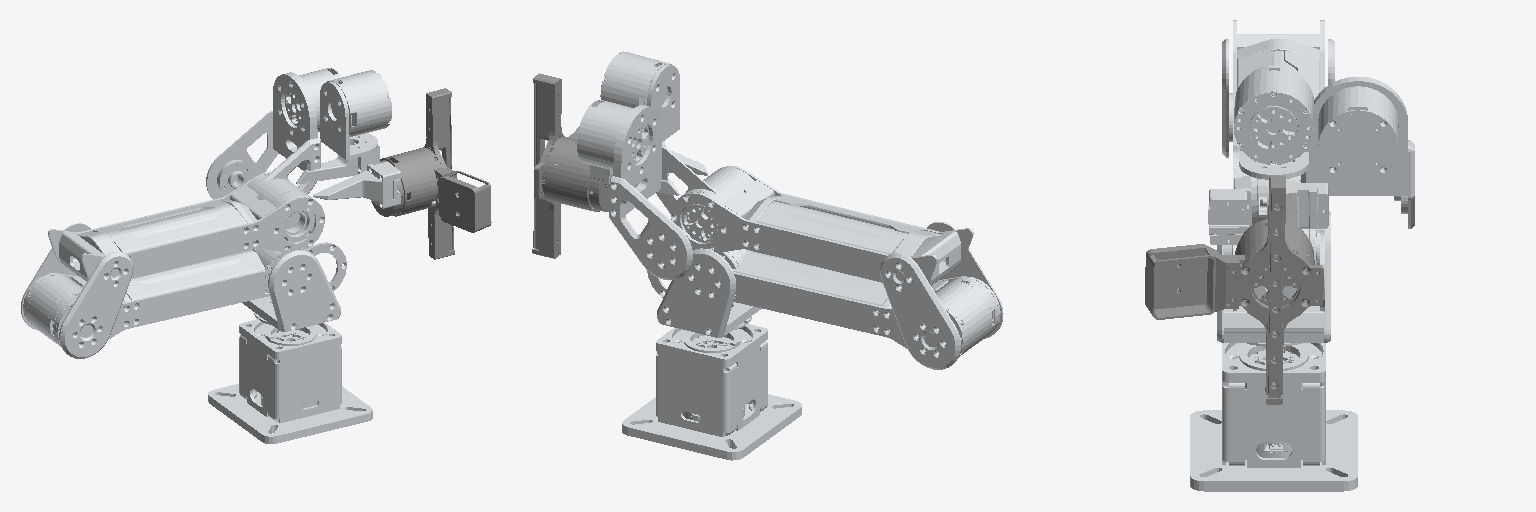
The robot description file, URDF, robot "NEW_ROBOT_ID_00_description":
<?xml version="1.0" encoding="utf-8"?>
<robot name="NEW_ROBOT_ID_00_description">
  
  <material name="light_grey">
    <color rgba="0.89804 0.91765 0.92941 1" />
  </material>
  <material name="dark_grey">
    <color rgba="0.64706 0.64706 0.64706 1" />
  </material>

  <link name="base_link">
    <inertial>
      <origin xyz="-0.007131 0.001945 0.043144" rpy="0 0 0" />
      <mass value="0.916" />
      <inertia ixx="0.002185445" ixy="-0.000227209" ixz="-0.000723781" iyy="0.003441872" iyz="0.000200330" izz="0.002680529" />
    </inertial>
    <visual>
      <origin xyz="0 0 0" rpy="0 0 0" />
      <geometry>
        <mesh filename="package://zekeep_bringup/description/meshes/base_link.STL" />
      </geometry>
      <material name="light_grey" />
    </visual>
    <collision>
      <origin xyz="0 0 0" rpy="0 0 0" />
      <geometry>
        <mesh filename="package://zekeep_bringup/description/meshes/base_link.STL" />
      </geometry>
    </collision>
  </link>

  <link name="link1">
    <inertial>
      <origin xyz="-0.00721199856 0.000698341 0.045955638" rpy="0 0 0" />
      <mass value="0.735" />
      <inertia ixx="0.000175065" ixy="0.000000212" ixz="0.000015081" iyy="0.000196979" iyz="-0.000000247" izz="0.000192343" />
    </inertial>
    <visual>
      <origin xyz="0 0 0" rpy="0 0 0" />
      <geometry>
        <mesh filename="package://zekeep_bringup/description/meshes/link1.STL" />
      </geometry>
      <material name="light_grey" />
    </visual>
    <collision>
      <origin xyz="0 0 0" rpy="0 0 0" />
      <geometry>
        <mesh filename="package://zekeep_bringup/description/meshes/link1.STL" />
      </geometry>
    </collision>
  </link>

  <link name="link2">
    <inertial>
      <origin xyz="0.197269 -0.000018 -0.030544" rpy="0 0 0" />
      <mass value="0.768" />
      <inertia ixx="0.000476697" ixy="-0.000002947" ixz="0.000055442" iyy="0.005877765" iyz="0.000000856" izz="0.005694930" />
    </inertial>
    <visual>
      <origin xyz="0 0 0" rpy="0 0 0" />
      <geometry>
        <mesh filename="package://zekeep_bringup/description/meshes/link2.STL" />
      </geometry>
      <material name="light_grey" />
    </visual>
    <collision>
      <origin xyz="0 0 0" rpy="0 0 0" />
      <geometry>
        <mesh filename="package://zekeep_bringup/description/meshes/link2.STL" />
      </geometry>
    </collision>
  </link>

  <link name="link3">
    <inertial>
      <origin xyz="0.146501 0.048525 0.030587" rpy="0 0 0" />
      <mass value="0.859" />
      <inertia ixx="0.000915548" ixy="0.000691174" ixz="-0.000116795" iyy="0.008789562" iyz="-0.000011161" izz="0.008645906" />
    </inertial>
    <visual>
      <origin xyz="0 0 0" rpy="0 0 0" />
      <geometry>
        <mesh filename="package://zekeep_bringup/description/meshes/link3.STL" />
      </geometry>
      <material name="light_grey" />
    </visual>
    <collision>
      <origin xyz="0 0 0" rpy="0 0 0" />
      <geometry>
        <mesh filename="package://zekeep_bringup/description/meshes/link3.STL" />
      </geometry>
    </collision>
  </link>

  <link name="link4">
    <inertial>
      <origin xyz="0.056244 0.051257 0.031059" rpy="0 0 0" />
      <mass value="0.506" />
      <inertia ixx="0.000635492" ixy="0.000343343" ixz="-0.000002832" iyy="0.000789294" iyz="-0.000002020" izz="0.000897884" />
    </inertial>
    <visual>
      <origin xyz="0 0 0" rpy="0 0 0" />
      <geometry>
        <mesh filename="package://zekeep_bringup/description/meshes/link4.STL" />
      </geometry>
      <material name="light_grey" />
    </visual>
    <collision>
      <origin xyz="0 0 0" rpy="0 0 0" />
      <geometry>
        <mesh filename="package://zekeep_bringup/description/meshes/link4.STL" />
      </geometry>
    </collision>
  </link>

  <link name="link5">
    <inertial>
      <origin xyz="-0.003856035728 -0.000000000221 -0.047059240881" rpy="0 0 0" />
      <mass value="0.391" />
      <inertia ixx="0.000225324549" ixy="0.000000000994" ixz="0.000053807136" iyy="0.000285103036" iyz="0.000000036977" izz="0.000227654172" />
    </inertial>
    <visual>
      <origin xyz="0 0 0" rpy="0 0 0" />
      <geometry>
        <mesh filename="package://zekeep_bringup/description/meshes/link5.STL" />
      </geometry>
      <material name="light_grey" />
    </visual>
    <collision>
      <origin xyz="0 0 0" rpy="0 0 0" />
      <geometry>
        <mesh filename="package://zekeep_bringup/description/meshes/link5.STL" />
      </geometry>
    </collision>
  </link>

  <link name="link6">
    <inertial>
      <origin xyz="0.000070 0.010969 0.046197" rpy="0 0 0" />
      <mass value="0.643" />
      <inertia ixx="0.000609430" ixy="0.000002066" ixz="0.000000563" iyy="0.000607333" iyz="0.000071787" izz="0.000843408" />
    </inertial>
    <visual>
      <!-- 只修正 J6 外壳方向，不改变夹指和 TCP 位姿 -->
      <origin xyz="0 0 0" rpy="0 0 1.5707963267948966" />
      <geometry>
        <mesh filename="package://zekeep_bringup/description/meshes/link6.STL" />
      </geometry>
      <material name="dark_grey" />
    </visual>
    <collision>
      <origin xyz="0 0 0" rpy="0 0 1.5707963267948966" />
      <geometry>
        <mesh filename="package://zekeep_bringup/description/meshes/link6.STL" />
      </geometry>
    </collision>
  </link>

  <joint name="joint1" type="revolute">
    <origin xyz="0 0 0.0725" rpy="0 0 3.1416" />
    <parent link="base_link" />
    <child link="link1" />
    <axis xyz="0 0 -1" />
    <limit lower="-2.58" upper="2.58" effort="27" velocity="8" />
  </joint>
  
  <joint name="joint2" type="revolute">
    <origin xyz="-0.016376 -0.031625 0.064309" rpy="1.5708 0 0" />
    <parent link="link1" />
    <child link="link2" />
    <axis xyz="0 0 1" />
    <limit lower="0" upper="3.7" effort="27" velocity="8" />
  </joint>
  
  <joint name="joint3" type="revolute">
    <origin xyz="0.26 0 0" rpy="3.1416 0 3.1416" />
    <parent link="link2" />
    <child link="link3" />
    <axis xyz="0 0 1" />
    <limit lower="-0.01" upper="3.7" effort="27" velocity="8" />
  </joint>
  
  <joint name="joint4" type="revolute">
    <origin xyz="0.236 0.053693 0.00075" rpy="0 0 0" />
    <parent link="link3" />
    <child link="link4" />
    <axis xyz="0 0 1" />
    <limit lower="-1.57" upper="1.57" effort="12.5" velocity="30" />
  </joint>
  
  <joint name="joint5" type="revolute">
    <origin xyz="0.0748682393924207 0.0470000537620406 0.0308749462379592" rpy="1.57079632679489 0 3.14159265358979" />
    <parent link="link4" />
    <child link="link5" />
    <axis xyz="0 0 1" />
    <limit lower="-1.57" upper="1.57" effort="12.5" velocity="30" />
  </joint>
  
  <joint name="joint6" type="revolute">
    <origin xyz="-0.03 0 -0.04675" rpy="1.5707963267948966 0 -1.5707963267948966" />
    <parent link="link5" />
    <child link="link6" />
    <axis xyz="0 0 -1" />
    <limit lower="-1.57" upper="1.57" effort="12.5" velocity="30" />
  </joint>

  <!-- 将分散的 rod_right 和 rod_left 合并进 gripper_base，并更新质量 -->
  <link name="gripper_base">
    <inertial>
      <origin xyz="0.000001 0.000001 0.005660" rpy="0 0 0" />
      <mass value="0.021" />
      <inertia ixx="0.000003038" ixy="0.000000679" ixz="0.0" iyy="0.000002480" iyz="0.0" izz="0.000005094" />
    </inertial>
    
    <visual>
      <origin xyz="0 0 0" rpy="0 0 0" />
      <geometry>
        <mesh filename="package://zekeep_bringup/description/meshes/gripper_base.STL" />
      </geometry>
      <material name="light_grey" />
    </visual>
    <collision>
      <origin xyz="0 0 0" rpy="0 0 0" />
      <geometry>
        <mesh filename="package://zekeep_bringup/description/meshes/gripper_base.STL" />
      </geometry>
    </collision>


  </link>

  <link name="right_link">
    <inertial>
      <origin xyz="-0.015369 -0.000001 0.088532" rpy="0 0 0" />
      <mass value="0.045195" />
      <inertia ixx="0.000013409" ixy="0.0" ixz="0.000002235" iyy="0.000012302" iyz="0.0" izz="0.000006864" />
    </inertial>
    <visual>
      <origin xyz="0 0 0" rpy="0 0 0" />
      <geometry>
        <mesh filename="package://zekeep_bringup/description/meshes/right_link.STL" />
      </geometry>
      <material name="light_grey" />
    </visual>
    <collision>
      <origin xyz="0 0 0" rpy="0 0 0" />
      <geometry>
        <mesh filename="package://zekeep_bringup/description/meshes/right_link.STL" />
      </geometry>
    </collision>
  </link>

  <link name="left_link">
    <inertial>
      <origin xyz="0.014997 -0.000001 0.088532" rpy="0 0 0" />
      <mass value="0.045195" />
      <inertia ixx="0.000013409" ixy="0.0" ixz="-0.000002235" iyy="0.000012302" iyz="0.0" izz="0.000006864" />
    </inertial>
    <visual>
      <origin xyz="0 0 0" rpy="0 0 0" />
      <geometry>
        <mesh filename="package://zekeep_bringup/description/meshes/left_link.STL" />
      </geometry>
      <material name="light_grey" />
    </visual>
    <collision>
      <origin xyz="0 0 0" rpy="0 0 0" />
      <geometry>
        <mesh filename="package://zekeep_bringup/description/meshes/left_link.STL" />
      </geometry>
    </collision>
  </link>

  <joint name="gripper_base_fixed_joint" type="fixed">
    <origin xyz="0 0 0.056" rpy="0 0 0" />
    <parent link="link6" />
    <child link="gripper_base" />
  </joint>
  
  <joint name="gripper_joint" type="prismatic">
    <!-- 将 rpy 恢复为 0 0 0 -->
    <origin xyz="0 0 -0.056" rpy="0 0 0" />
    <parent link="gripper_base" />
    <child link="left_link" />
    <axis xyz="1 0 0" />
    <limit lower="0" upper="0.035" effort="10" velocity="0.05" />
  </joint>
  
  <joint name="right_joint" type="prismatic">
    <!-- 将 rpy 恢复为 0 0 0 -->
    <origin xyz="0 0 -0.056" rpy="0 0 0" />
    <parent link="gripper_base" />
    <child link="right_link" />
    <axis xyz="-1 0 0" />
    <limit lower="0" upper="0.035" effort="10" velocity="0.05" />
    <mimic joint="gripper_joint" multiplier="1" offset="0" />
  </joint>

  <link name="grasp_tcp" />
  
  <joint name="grasp_tcp_fixed_joint" type="fixed">
    <origin xyz="0 0 0.15539" rpy="0 -1.5708 3.1415" />
    <parent link="link6" />
    <child link="grasp_tcp" />
  </joint>
  <!-- Compatibility alias for existing direct-SDK and Studio pose commands. -->
  <link name="official_tcp" />
  <joint name="official_tcp_fixed" type="fixed">
    <origin xyz="0 0 0.15539" rpy="0 -1.5708 3.1415" />
    <parent link="link6" />
    <child link="official_tcp" />
  </joint>
</robot>

--- Render facts (derived) ---
The picture shows the robot from 3 angles, left to right: view 1: azimuth 30°, elevation 25°; view 2: azimuth 150°, elevation 25°; view 3: azimuth 270°, elevation 25°; orthographic projection.
Robot: NEW_ROBOT_ID_00_description — 12 links, 11 joints (6 revolute, 2 prismatic, 3 fixed); root link base_link; default pose: every joint at zero.
Visible links, largest first — view 1: link3, base_link, link2, link6, link4, link1, link5, left_link, right_link; view 2: link3, base_link, link2, link4, link6, link1, link5; view 3: base_link, link6, link4, link5, link3, link1, left_link, right_link.
Boxes of the visible links, box(x1,y1,x2,y2) form: link3: box(21, 172, 324, 358); base_link: box(208, 319, 372, 443); link2: box(23, 242, 346, 346); link6: box(371, 88, 491, 259); link4: box(206, 68, 341, 199); link1: box(242, 247, 340, 331); link5: box(320, 70, 391, 159); left_link: box(313, 161, 400, 208); right_link: box(296, 143, 379, 184); link3: box(671, 166, 1003, 369); base_link: box(622, 323, 801, 460); link2: box(647, 250, 1000, 356); link4: box(577, 100, 721, 279); link6: box(532, 73, 608, 258); link1: box(657, 248, 761, 337); link5: box(600, 51, 679, 141); base_link: box(1190, 343, 1357, 491); link6: box(1145, 175, 1323, 404); link4: box(1301, 77, 1414, 228); link5: box(1234, 65, 1313, 179); link3: box(1222, 20, 1334, 228); link1: box(1217, 210, 1330, 346); left_link: box(1208, 175, 1251, 244); right_link: box(1286, 180, 1328, 228).
Size in the robot's own frame: 0.4489 by 0.193 by 0.331 metres.
10 mesh visuals loaded from 10 distinct referenced files (10 binary STL).
